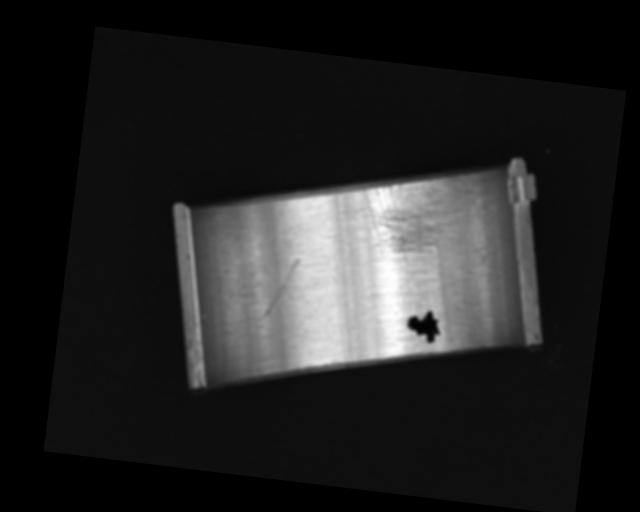blot: (404, 307, 443, 345)
nick: (324, 246, 361, 364), (259, 253, 301, 325)
scratch: (354, 161, 476, 272)
